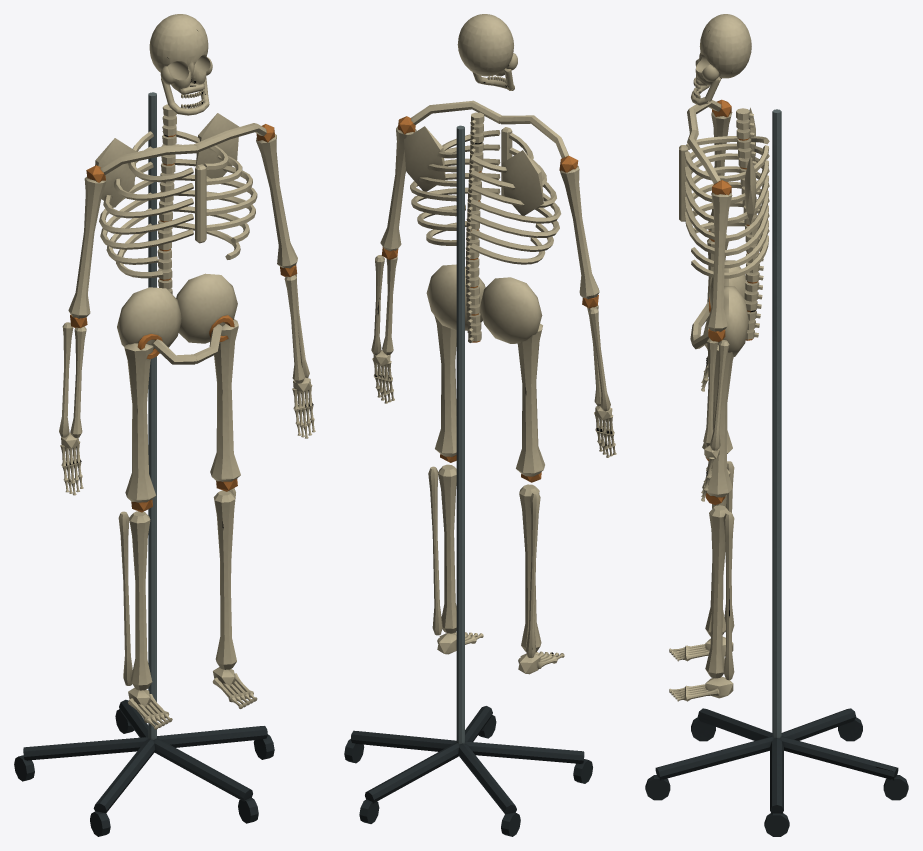
The model's file is skeleton.glb.
The picture shows the model from 3 angles, left to right: view 1: azimuth 30°, elevation 25°; view 2: azimuth 150°, elevation 25°; view 3: azimuth 270°, elevation 25°; orthographic projection. The views are drawn at different scales.
Visible parts, largest first — view 1: skeleton; view 2: skeleton; view 3: skeleton.
Part boxes in pixels (x1,y1,x2,y2): skeleton: (14,14,315,836); skeleton: (344,14,616,836); skeleton: (645,14,908,836).
Bounding box in the file's own units: 0.5641 × 1.69 × 0.5255.
Materials: 1 (1 with a texture image).
